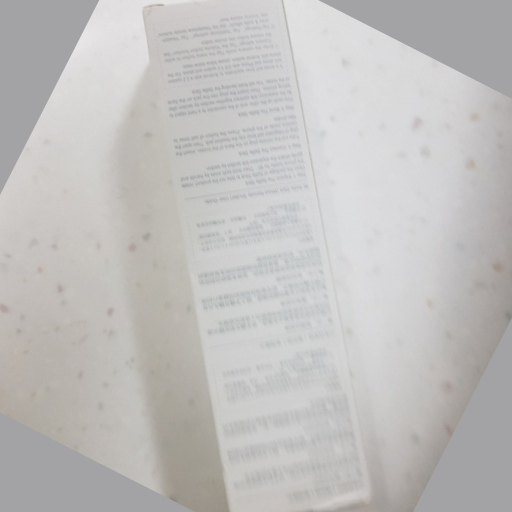Paper_0: (137, 1, 378, 512)
